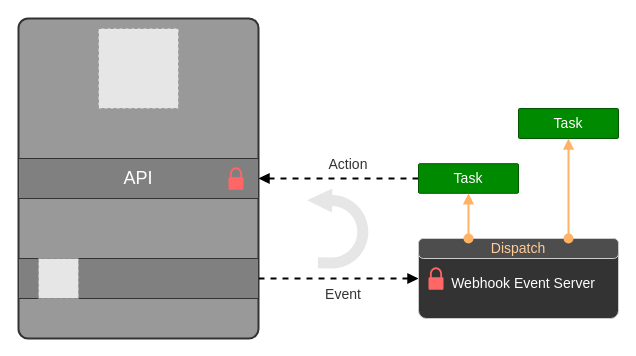
This 636x356 diagram has some shape labels left out. Grey dashed boxes stand in for pictures. The box of each missing label's shape, as (x1, y1, x2, y2) in pixels:
GitHub: (17, 17, 259, 339)
Webhooks: (18, 258, 258, 298)
